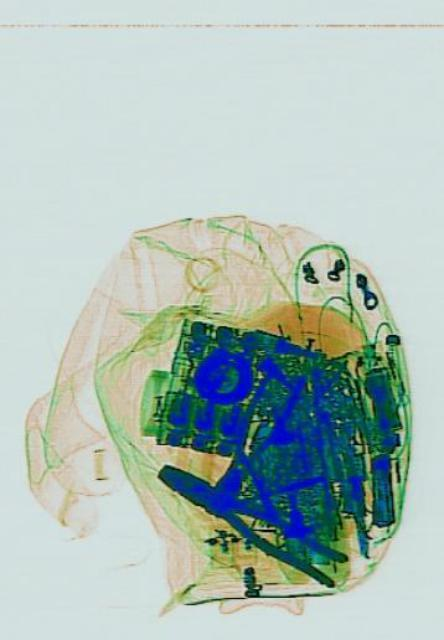Pliers: (150, 446, 345, 594), (203, 349, 307, 511)
